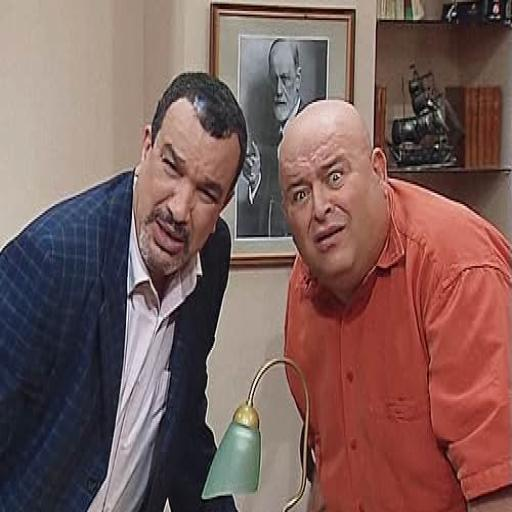sboui: (279, 101, 389, 296)
slimane: (134, 73, 246, 280)
